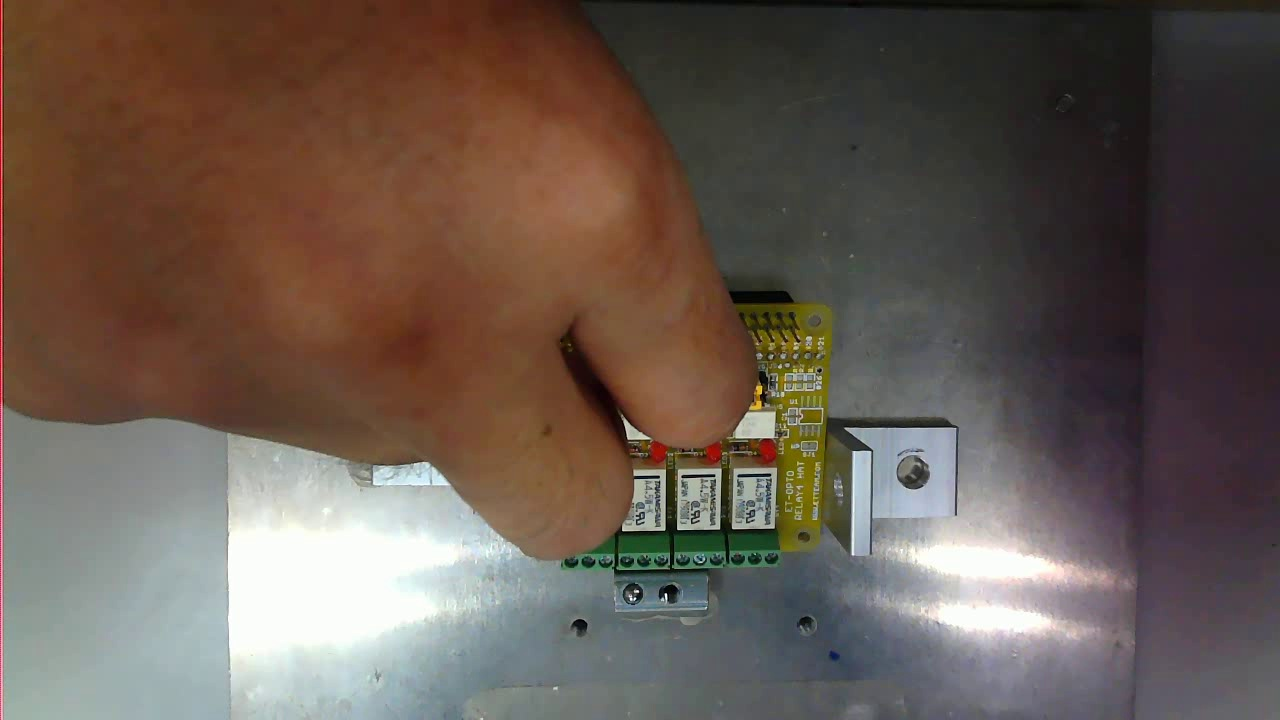can: (557, 296, 831, 570)
